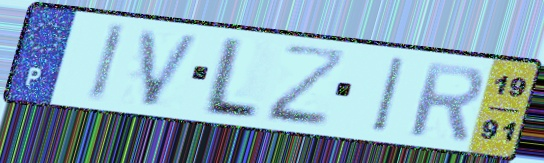I: (83, 20, 130, 105), (369, 53, 410, 137)
L: (195, 35, 264, 123)
R: (406, 59, 486, 144)
V: (137, 26, 206, 110)
Z: (264, 42, 351, 130)
